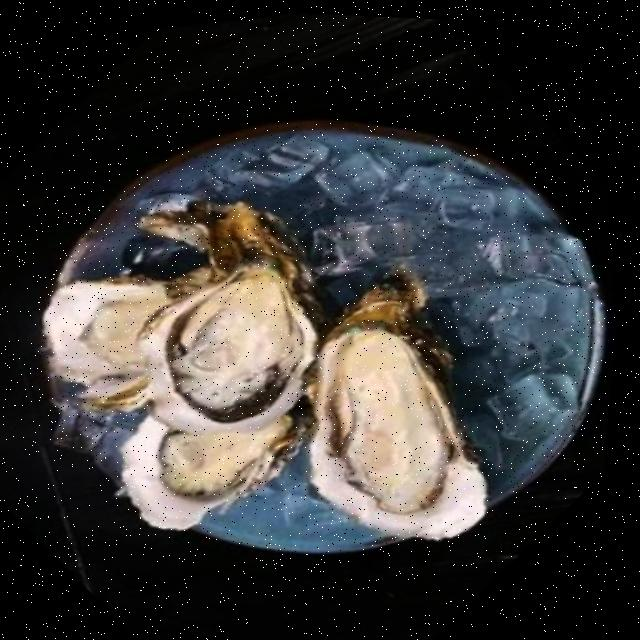Oyster-Indeterminate: (130, 150, 328, 337)
Oyster-Open: (212, 247, 578, 598), (99, 211, 371, 474), (85, 329, 331, 570), (0, 208, 233, 447)
